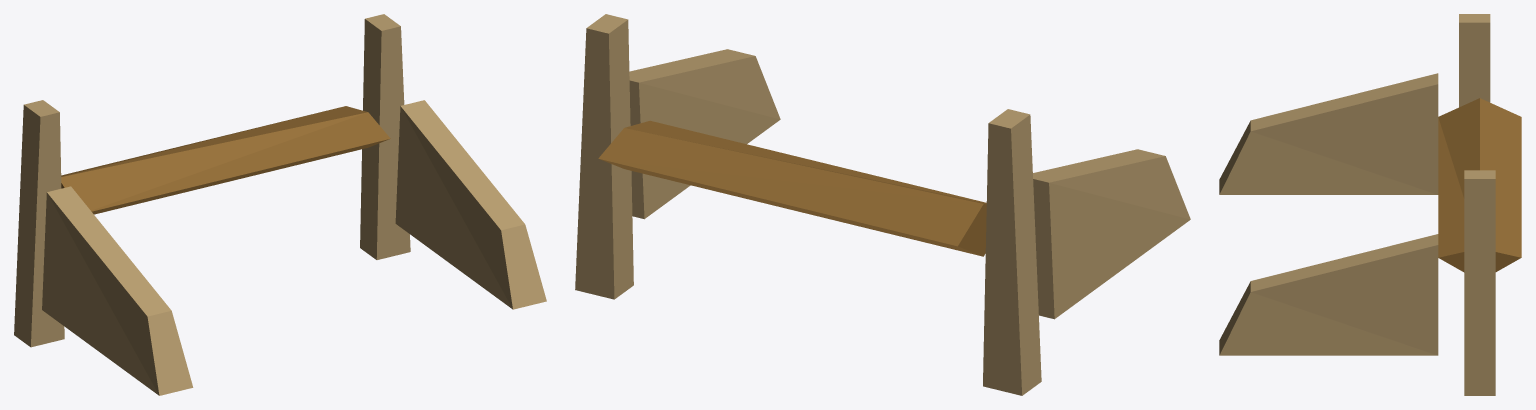
File: obj_ships_ladder_6_0.obj
3 views of the same model, side by side, from view 1: azimuth 30°, elevation 25°; view 2: azimuth 150°, elevation 25°; view 3: azimuth 270°, elevation 25° (orthographic). The views are drawn at different scales.
Bounding box in the file's own units: 0.625 × 0.3516 × 0.4531.
